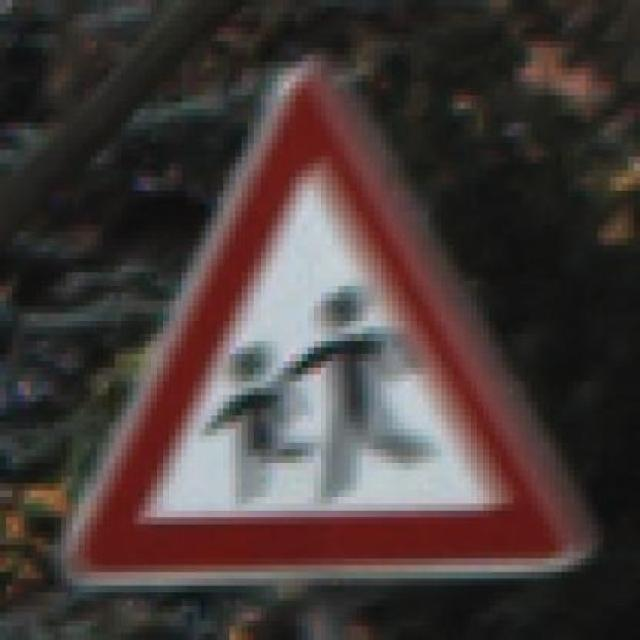Beware of children: (66, 48, 605, 592)
